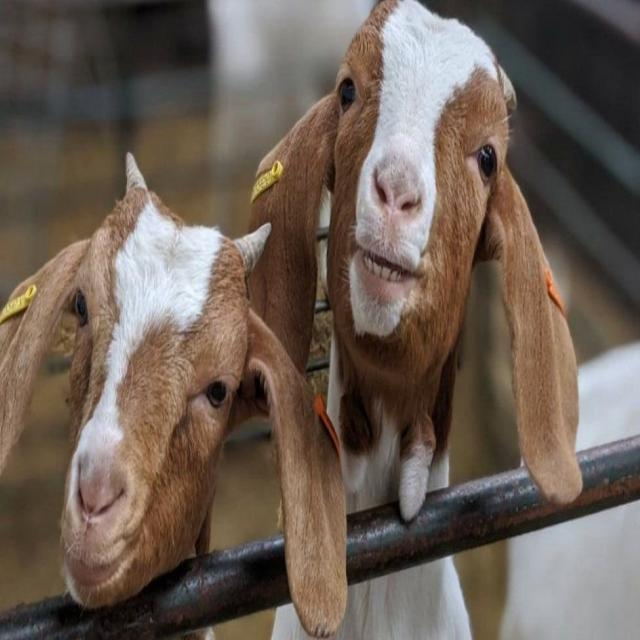goat: (250, 0, 582, 520), (1, 154, 347, 637)
